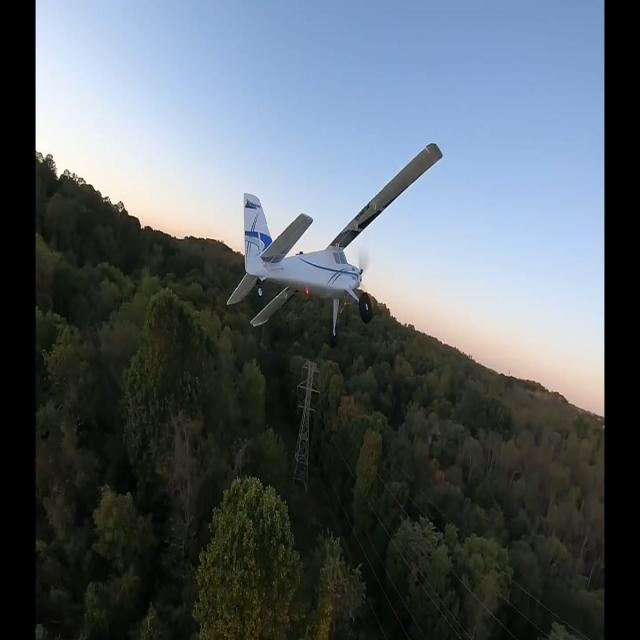iha: (226, 141, 444, 351)
